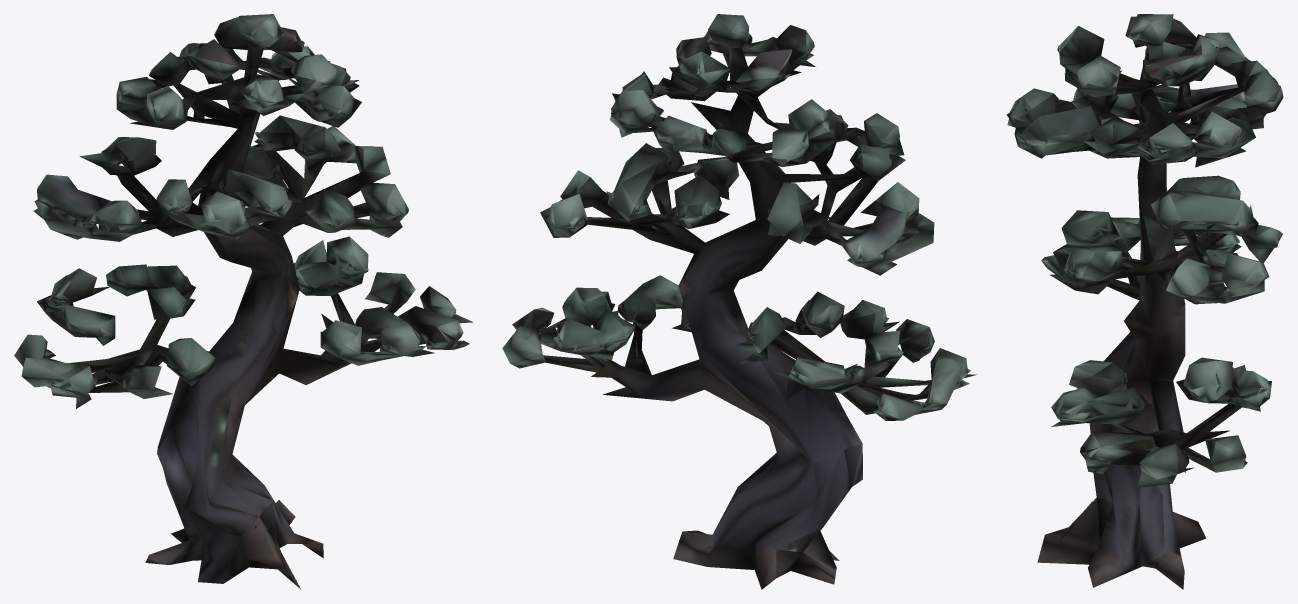
Rendered from tree_pine_kuromatsu_lod3k.glb.
3 renders of one model, left to right at view 1: azimuth 30°, elevation 25°; view 2: azimuth 150°, elevation 25°; view 3: azimuth 270°, elevation 25°, orthographic. The views are drawn at different scales.
Visible parts, largest first — view 1: node_0; view 2: node_0; view 3: node_0.
Part boxes in pixels (x1=…): node_0: x1=14, y1=14, x2=472, y2=589; node_0: x1=502, y1=14, x2=976, y2=589; node_0: x1=1006, y1=14, x2=1283, y2=589.
Size of the model in its own units: 5.93 by 6.95 by 3.15.
Materials: 1 (1 with a texture image).
